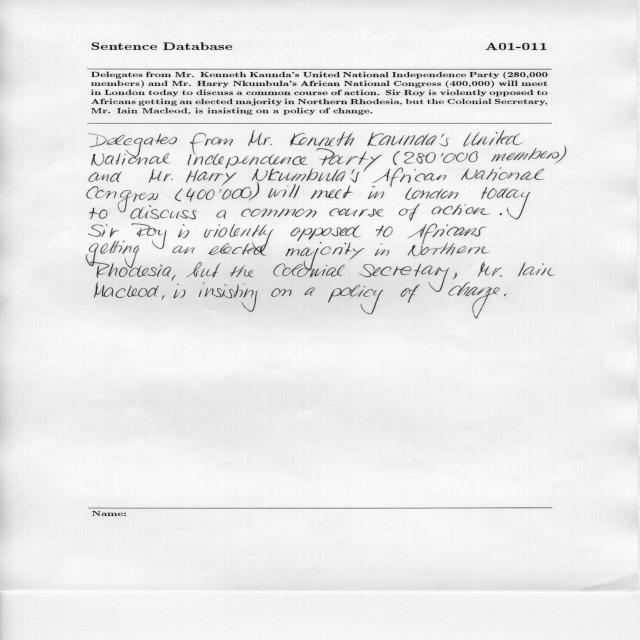word: (359, 264, 450, 292), (89, 133, 177, 157), (448, 283, 500, 319), (86, 240, 139, 275), (87, 187, 158, 213), (188, 154, 308, 169), (199, 282, 257, 312), (407, 224, 486, 245), (328, 285, 383, 315), (252, 168, 360, 183), (317, 148, 382, 172), (285, 242, 365, 260), (273, 257, 345, 277), (373, 168, 447, 187), (187, 184, 260, 202), (368, 133, 450, 147), (204, 224, 274, 240), (291, 226, 361, 242), (461, 168, 545, 181), (408, 243, 490, 256), (94, 282, 159, 298), (92, 153, 170, 166), (404, 151, 478, 164), (463, 130, 523, 146), (190, 133, 233, 155), (131, 205, 197, 219), (131, 224, 167, 249), (208, 241, 268, 256), (290, 132, 354, 146), (109, 263, 171, 277), (186, 170, 237, 185), (482, 187, 531, 202), (478, 262, 526, 277), (406, 187, 459, 200), (241, 209, 317, 218), (431, 204, 490, 215), (311, 185, 353, 199), (528, 148, 566, 163), (186, 262, 221, 277), (329, 208, 384, 217), (500, 203, 526, 220), (523, 263, 554, 276), (89, 224, 119, 237), (248, 130, 272, 146), (492, 152, 529, 162), (89, 172, 122, 183), (401, 284, 420, 303), (399, 204, 420, 221), (149, 169, 173, 183), (231, 266, 254, 278), (368, 186, 384, 199), (376, 225, 393, 237), (90, 208, 108, 219), (288, 184, 301, 199), (268, 188, 287, 198), (271, 288, 292, 297), (172, 246, 195, 254), (375, 243, 389, 256), (174, 284, 186, 299), (178, 224, 189, 238), (175, 189, 183, 202), (304, 287, 315, 296), (393, 151, 400, 165), (217, 210, 226, 219), (172, 275, 176, 281), (453, 273, 457, 279), (162, 296, 165, 300), (504, 294, 506, 296)
